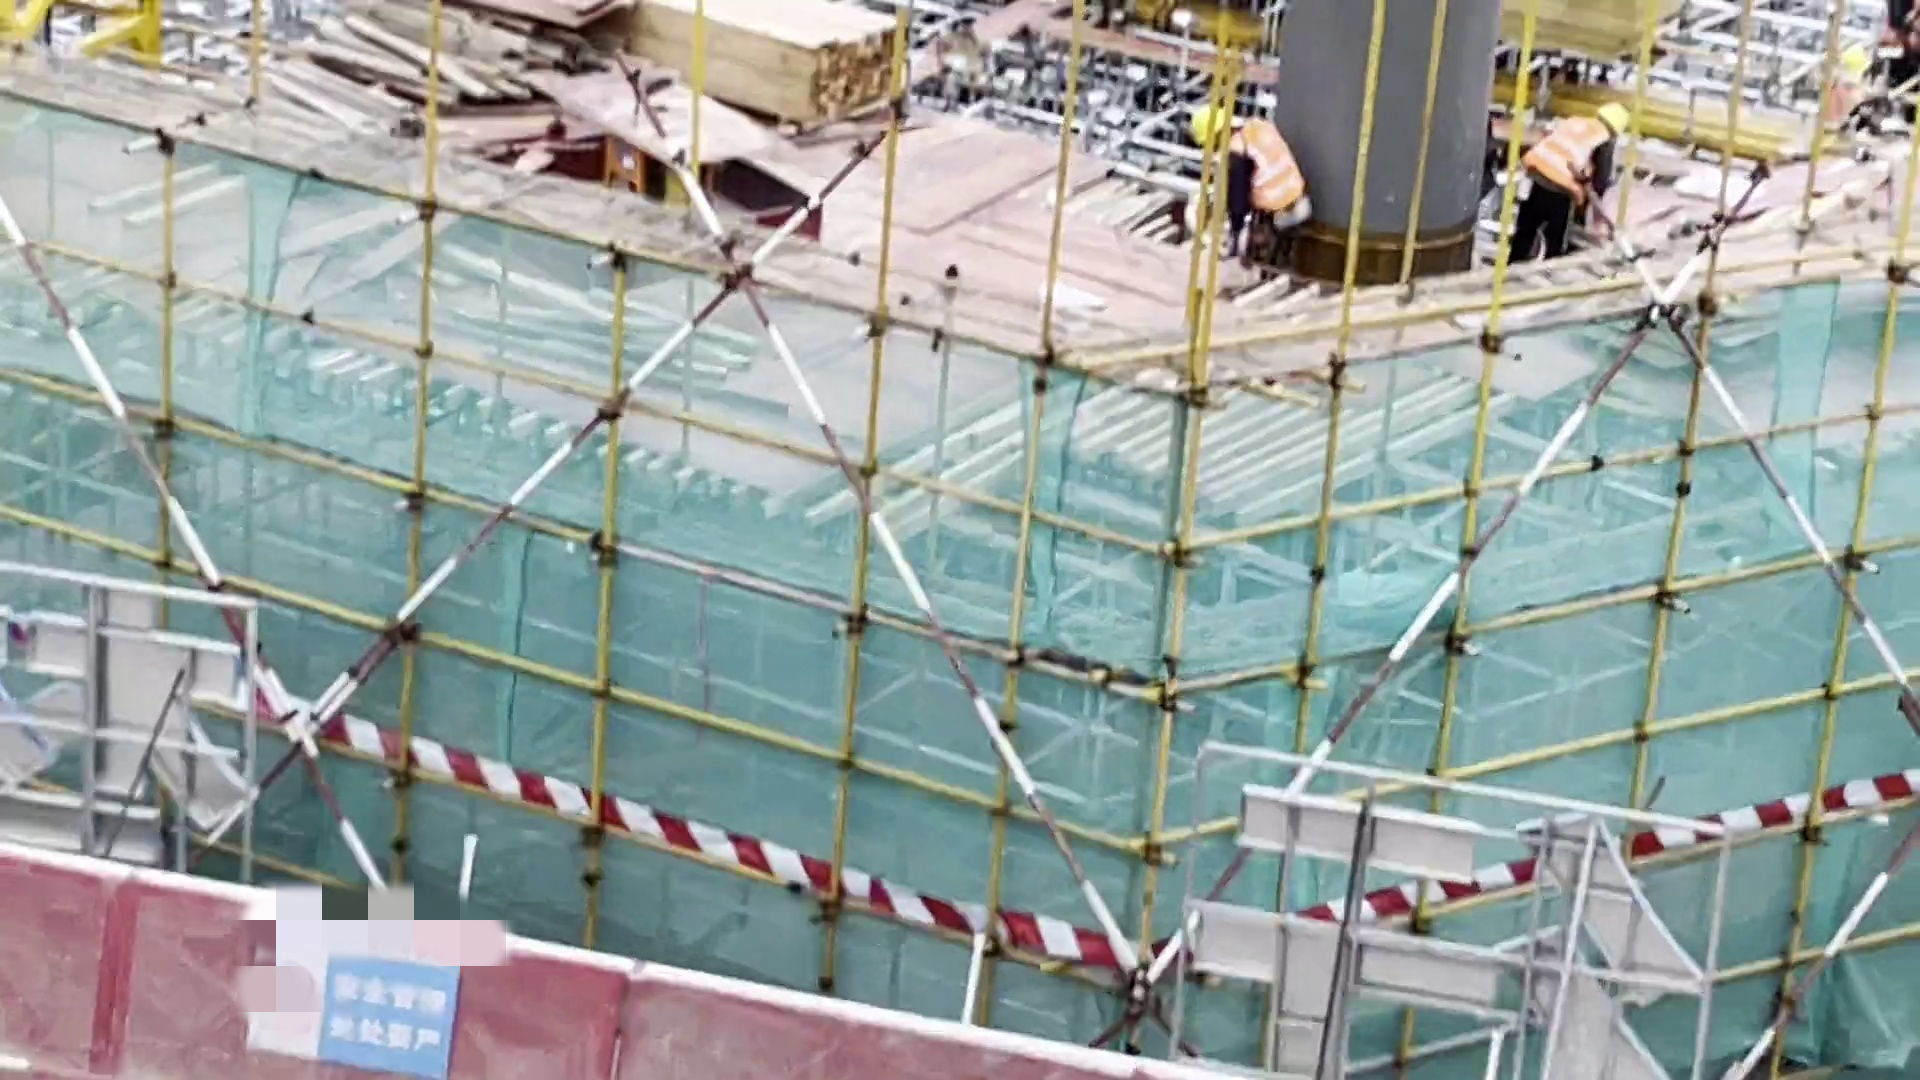cutter: (539, 67, 773, 199)
helmet: (1179, 99, 1236, 157), (1592, 79, 1645, 140)
person: (1186, 98, 1314, 274), (1511, 78, 1612, 257)
slogan: (324, 961, 443, 1058)
vest: (1232, 135, 1306, 202), (1536, 107, 1588, 182)
wood: (365, 13, 515, 117)
